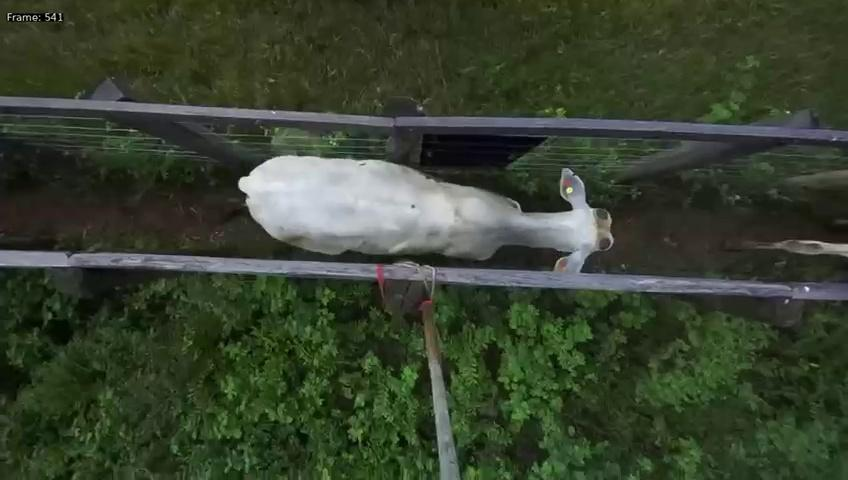cattle: (226, 146, 617, 271)
